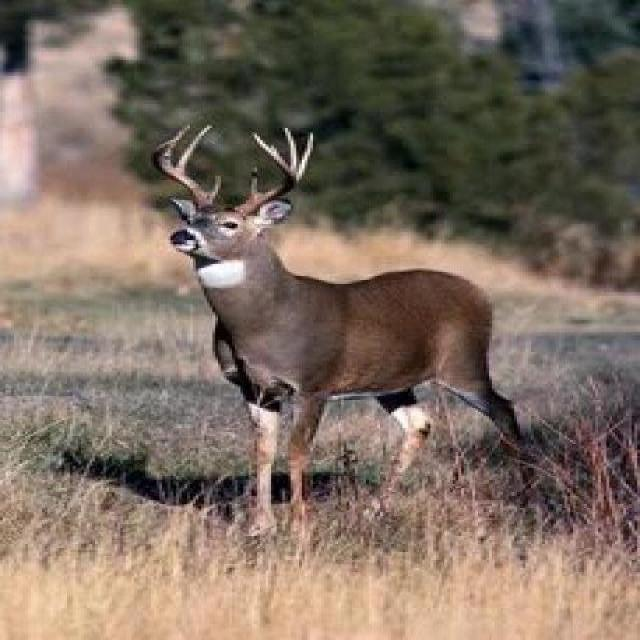deer: (78, 105, 554, 527)
